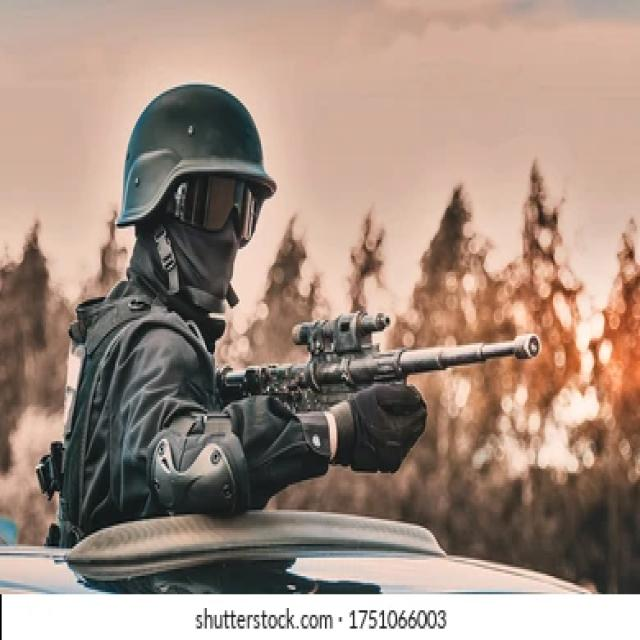soldier: (58, 79, 549, 528)
